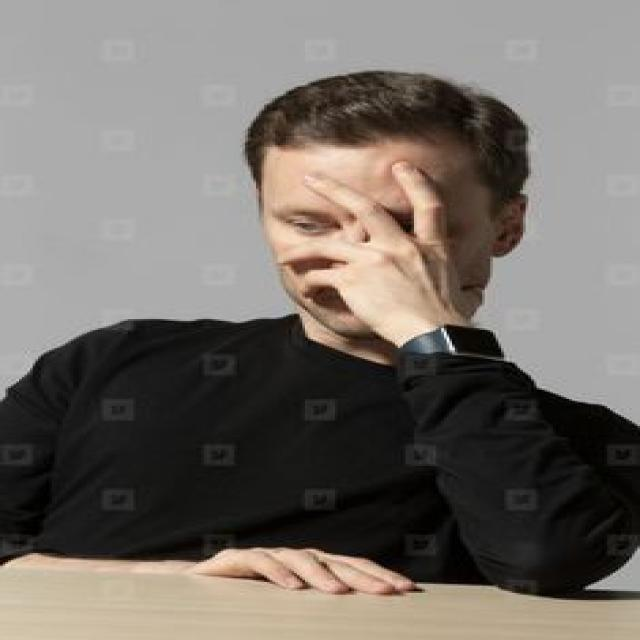7_mano_rostro: (266, 159, 448, 327)
